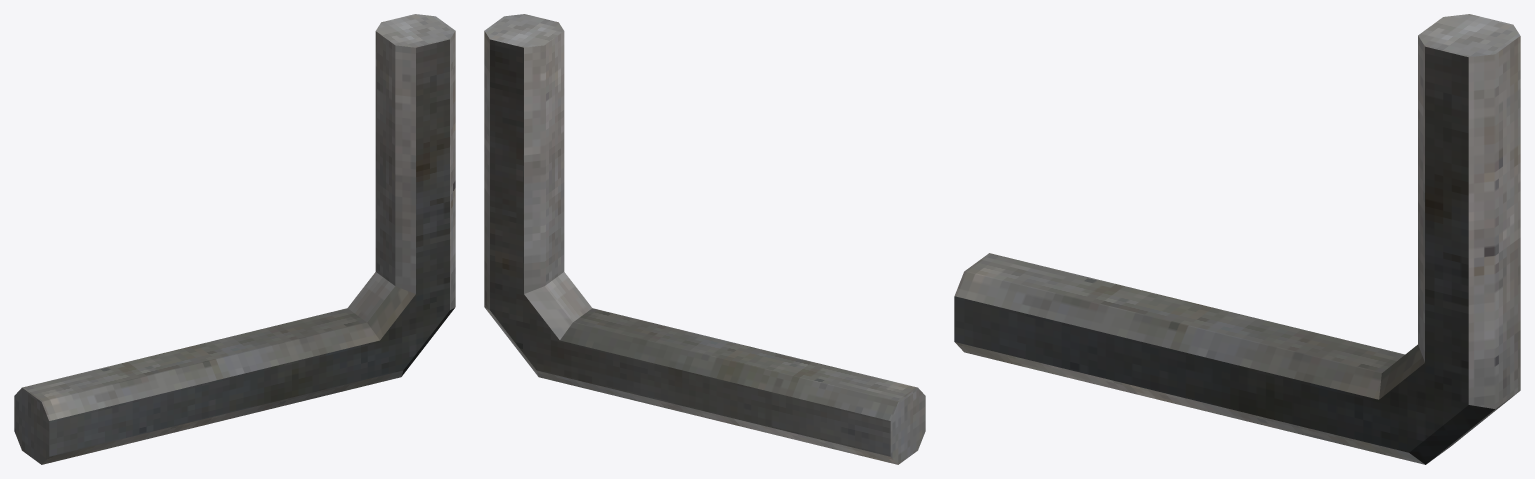
File: Pipe.fbx
3 renders of one model, left to right at view 1: azimuth 30°, elevation 25°; view 2: azimuth 150°, elevation 25°; view 3: azimuth 330°, elevation 25°, orthographic. The views are drawn at different scales.
Parts seen in each view (by area): view 1: Tube; view 2: Tube; view 3: Tube.
Boxes of the visible parts, x1=… form: Tube: x1=14, y1=14, x2=455, y2=464; Tube: x1=484, y1=14, x2=925, y2=464; Tube: x1=954, y1=14, x2=1520, y2=464.
Size of the model in its own units: 2.9 by 2.23 by 0.4212.
Materials: 1 (1 with a texture image).
